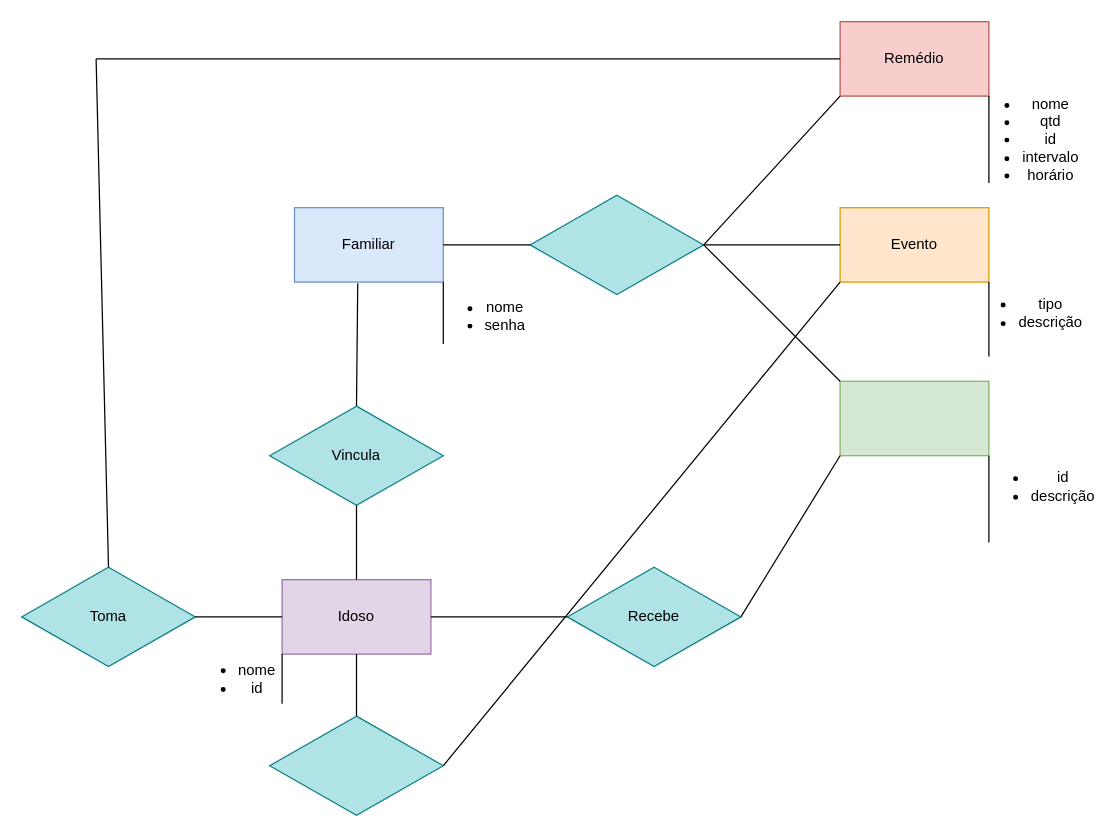
Image size: 1116x837. Some labels were removed from this diagram. The centre of each missing label's shape, as x and y in pixels:
"Gerencia" belongs at point 616,244.
"Lembrete" belongs at point 914,418.
"Marca" belongs at point 355,765.
